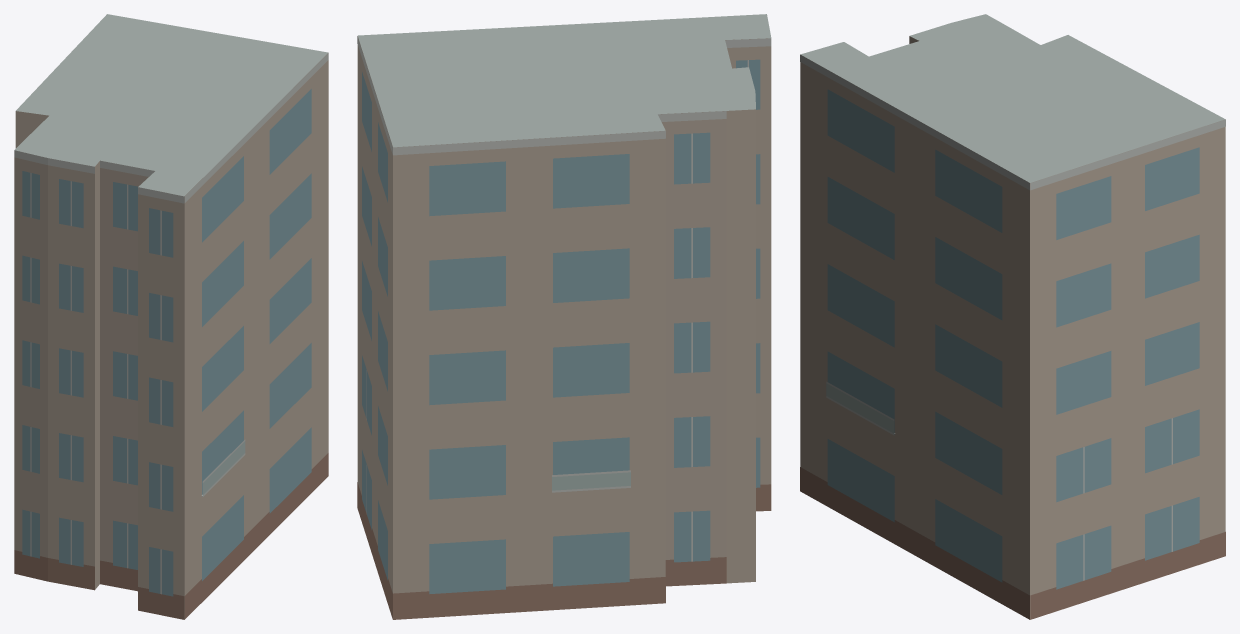
The model's file is survey-upis-32731364.glb.
The picture shows the model from 3 angles, left to right: view 1: azimuth 30°, elevation 25°; view 2: azimuth 150°, elevation 25°; view 3: azimuth 270°, elevation 25°; orthographic projection. The views are drawn at different scales.
Parts seen in each view (by area): view 1: survey-upis-32731364.tmp; view 2: survey-upis-32731364.tmp; view 3: survey-upis-32731364.tmp.
Boxes of the visible parts, x1,y1,x2,y2 form: survey-upis-32731364.tmp: (14,14,328,619); survey-upis-32731364.tmp: (357,14,771,619); survey-upis-32731364.tmp: (800,14,1225,619).
Size of the model in its own units: 11.92 by 14.35 by 12.68.
